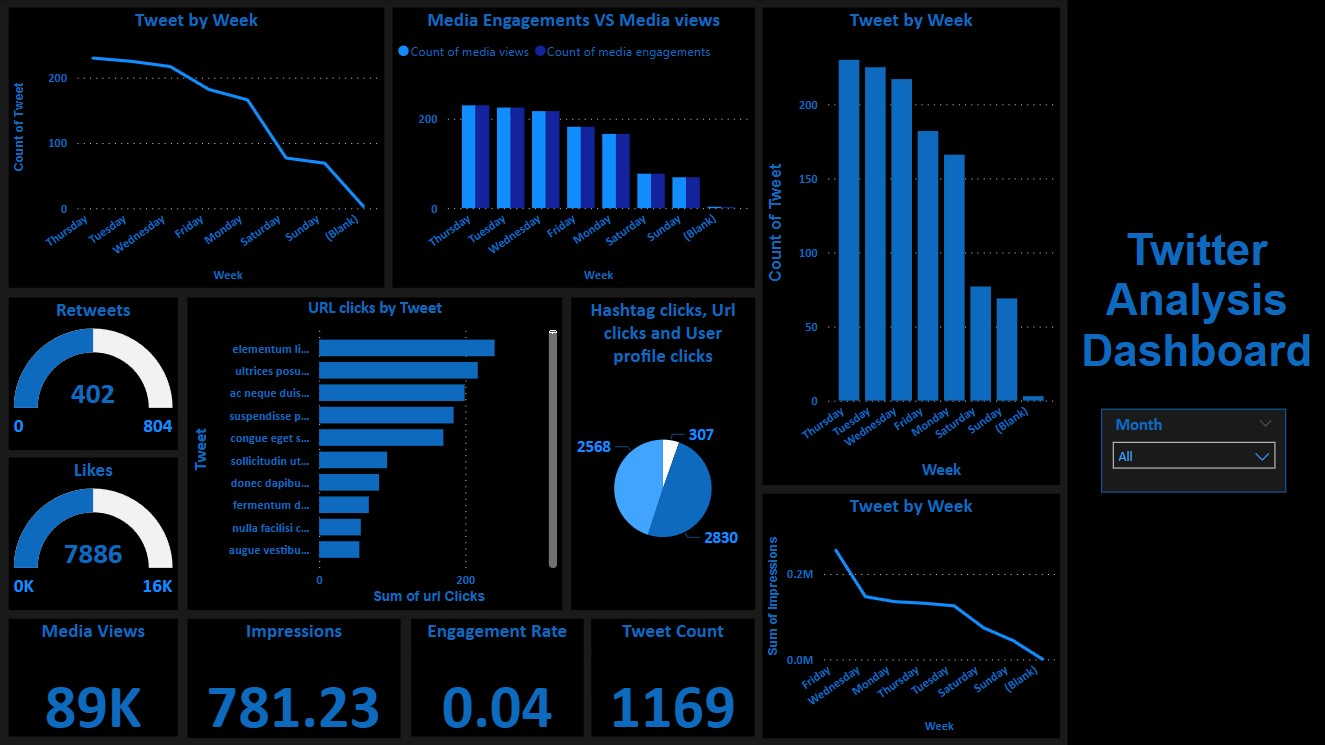

The dashboard page shown, as its layout file describes it:
{"tool":"powerbi","page":{"name":"Dashboard","canvas":[1280,720],"ordinal":0},"visuals":[{"type":"textbox","box":[1030.5,0,249.7,720.4],"z":0},{"type":"cardVisual","title":"Media Views","fields":{"Data":["Sum(SocialMedia (1).media views)"]},"box":[8.2,596.9,163.3,113.9],"z":1000},{"type":"cardVisual","title":"Impressions","fields":{"Data":["Avg(SocialMedia (1).impressions)"]},"box":[181.1,596.9,205.8,115.3],"z":2000},{"type":"cardVisual","title":"Engagement Rate","fields":{"Data":["Avg(SocialMedia (1).engagement rate)"]},"box":[396.6,596.9,166,113.9],"z":3000},{"type":"cardVisual","title":"Tweet Count","fields":{"Data":["Count(SocialMedia (1).Tweet)"]},"box":[570.8,596.9,157.8,113.9],"z":4000},{"type":"gauge","title":"Likes","fields":{"Y":["Sum(SocialMedia (1).likes)"]},"box":[8.2,441.9,163.3,146.8],"z":5000},{"type":"gauge","title":"Retweets","fields":{"Y":["Max(SocialMedia (1).retweets)"]},"box":[8.2,286.8,163.3,146.8],"z":6000},{"type":"lineChart","title":"Tweet by Week","fields":{"Y":["CountNonNull(SocialMedia (1).Tweet)"],"Category":["SocialMedia (1).DayWeek"]},"box":[8.2,6.9,362.3,270.3],"z":7000},{"type":"lineChart","title":"Tweet by Week","fields":{"Category":["SocialMedia (1).DayWeek"],"Y":["Sum(SocialMedia (1).impressions)"]},"box":[735.7,476.4,287,236.4],"z":8000},{"type":"columnChart","title":"Tweet by Week","fields":{"Category":["SocialMedia (1).DayWeek"],"Y":["CountNonNull(SocialMedia (1).Tweet)"]},"box":[735.7,7.2,287,460.7],"z":9000},{"type":"clusteredBarChart","title":"URL clicks  by Tweet","fields":{"Category":["SocialMedia (1).Tweet"],"Y":["Sum(SocialMedia (1).url clicks)"]},"box":[180.9,287,361.8,301.5],"z":10000},{"type":"pieChart","title":"Hashtag clicks, Url clicks and User profile clicks","fields":{"Y":["Sum(SocialMedia (1).hashtag clicks)","Sum(SocialMedia (1).url clicks)","Sum(SocialMedia (1).user profile clicks)"]},"box":[551.2,287,177.3,301.5],"z":11000},{"type":"clusteredColumnChart","title":"Media Engagements VS Media views","fields":{"Category":["SocialMedia (1).DayWeek"],"Y":["CountNonNull(SocialMedia (1).media views)","CountNonNull(SocialMedia (1).media engagements)"]},"box":[378.7,7.2,349.7,270.2],"z":12000},{"type":"slicer","fields":{"Values":["SocialMedia (1).Month"]},"box":[1062.5,394.4,178.5,80.8],"z":13000}]}

Visuals, with their boxes in screenshot pixels (x1, y1, x2, y2), scaled from the page's 1280x720 canvas onto the 1325x745 screenshot:
textbox: {"x1": 1067, "y1": 0, "x2": 1324, "y2": 744}
"Media Views" cardVisual: {"x1": 8, "y1": 618, "x2": 178, "y2": 735}
"Impressions" cardVisual: {"x1": 187, "y1": 618, "x2": 401, "y2": 737}
"Engagement Rate" cardVisual: {"x1": 411, "y1": 618, "x2": 582, "y2": 735}
"Tweet Count" cardVisual: {"x1": 591, "y1": 618, "x2": 754, "y2": 735}
"Likes" gauge: {"x1": 8, "y1": 457, "x2": 178, "y2": 609}
"Retweets" gauge: {"x1": 8, "y1": 297, "x2": 178, "y2": 449}
"Tweet by Week" lineChart: {"x1": 8, "y1": 7, "x2": 384, "y2": 287}
"Tweet by Week" lineChart: {"x1": 762, "y1": 493, "x2": 1059, "y2": 738}
"Tweet by Week" columnChart: {"x1": 762, "y1": 7, "x2": 1059, "y2": 484}
"URL clicks  by Tweet" clusteredBarChart: {"x1": 187, "y1": 297, "x2": 562, "y2": 609}
"Hashtag clicks, Url clicks and User profile clicks" pieChart: {"x1": 571, "y1": 297, "x2": 754, "y2": 609}
"Media Engagements VS Media views" clusteredColumnChart: {"x1": 392, "y1": 7, "x2": 754, "y2": 287}
slicer - SocialMedia (1).Month: {"x1": 1100, "y1": 408, "x2": 1285, "y2": 492}
